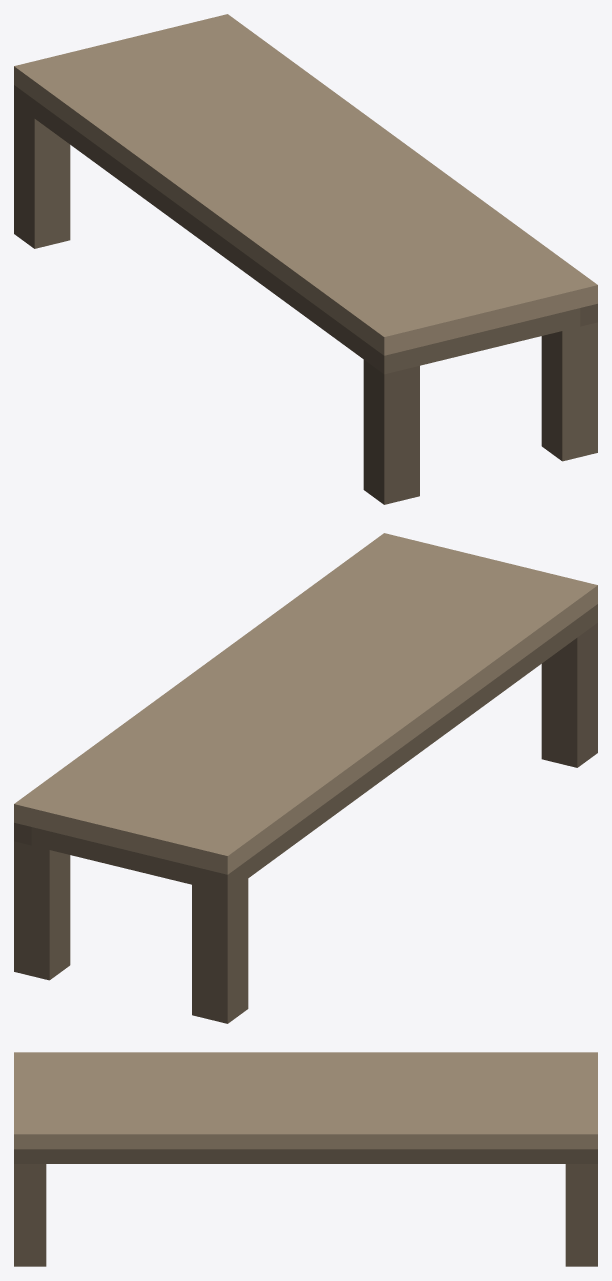
The model's file is mostrador_desgastada_01.glb.
The picture shows the model from 3 angles, top to bottom: view 1: azimuth 30°, elevation 25°; view 2: azimuth 150°, elevation 25°; view 3: azimuth 270°, elevation 25°; orthographic projection. The views are drawn at different scales.
Visible parts, largest first — view 1: mostrador_desgastada; view 2: mostrador_desgastada; view 3: mostrador_desgastada.
Part boxes in pixels (left/top/right/bottom): mostrador_desgastada: left=14, top=14, right=597, bottom=504; mostrador_desgastada: left=14, top=533, right=597, bottom=1023; mostrador_desgastada: left=14, top=1052, right=597, bottom=1266.
Bounding box in the file's own units: 1 × 0.75 × 3.
